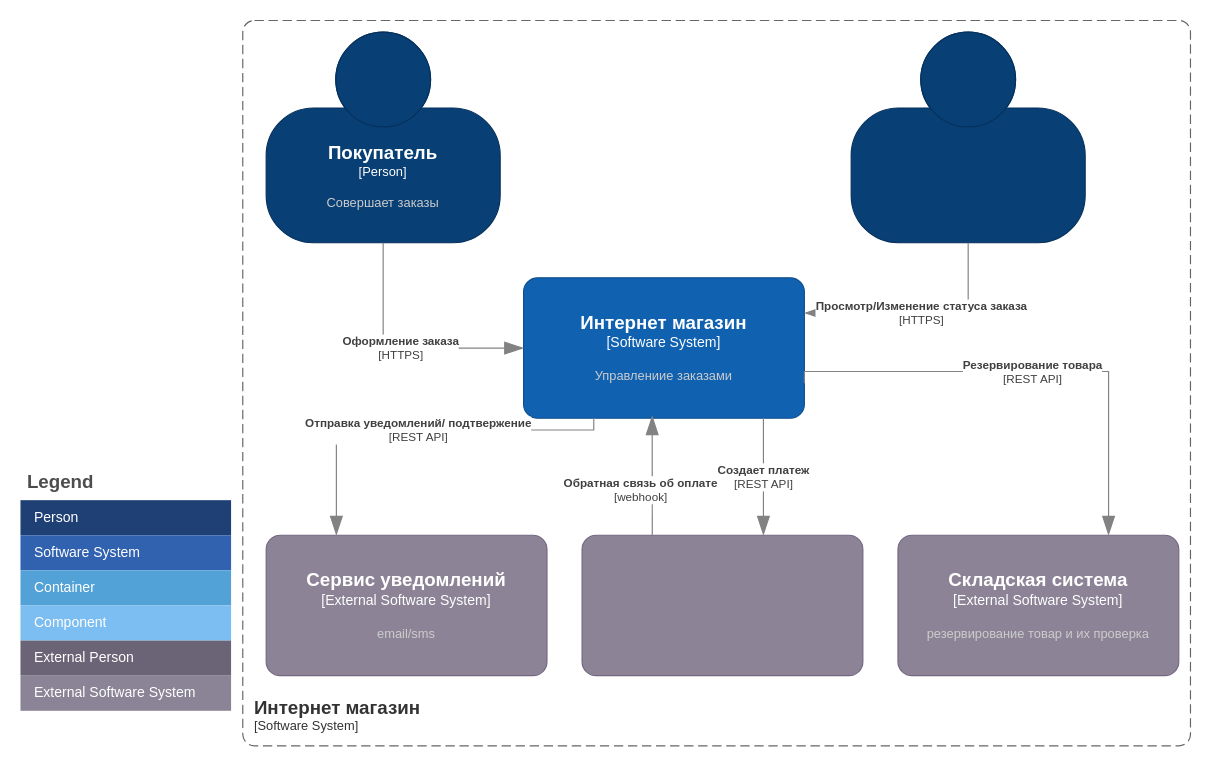
This 1211x766 diagram has some shape labels left out. The centre of each missing label's shape, as x and y in pixels:
"Менеджер [Person] Управляет заказами" goes at point 967,137.
"Платежный шлюз [External Software System] Обработка транзакций (например Юкасса)" goes at point 722,605.
